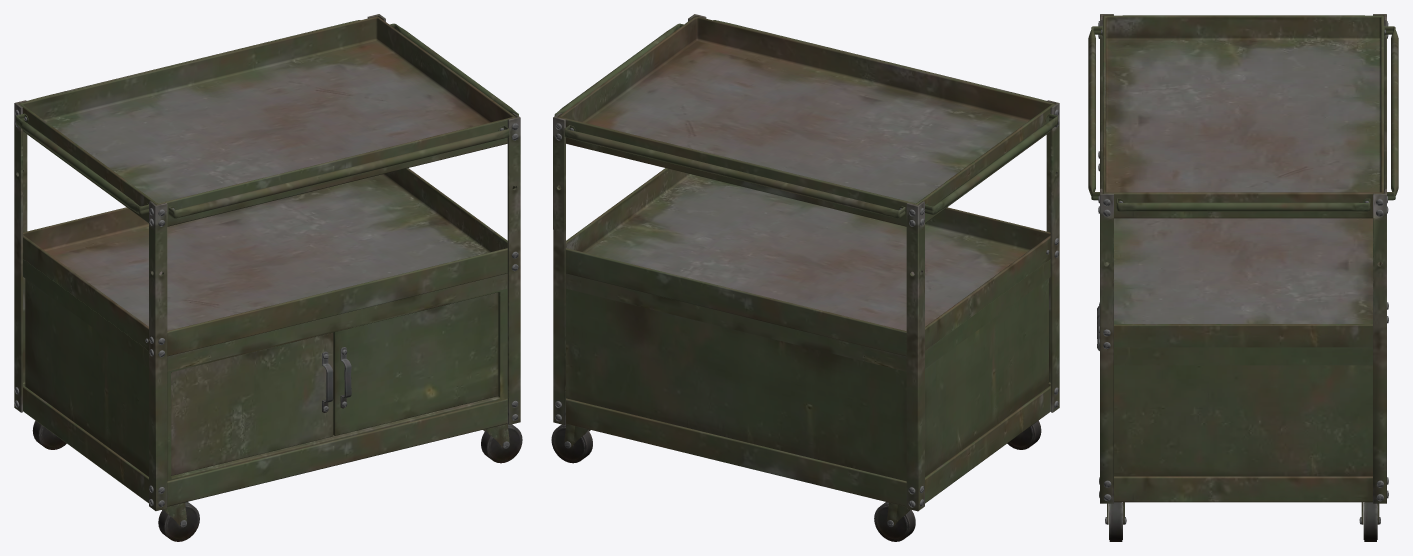
Rendered from industrial_storage_cart.glb.
3 renders of one model, left to right at view 1: azimuth 30°, elevation 25°; view 2: azimuth 150°, elevation 25°; view 3: azimuth 270°, elevation 25°, orthographic.
Parts seen in each view (by area): view 1: industrial_storage_cart; view 2: industrial_storage_cart; view 3: industrial_storage_cart.
Boxes of the visible parts, x1,y1,x2,y2 form: industrial_storage_cart: (14, 14, 522, 541); industrial_storage_cart: (551, 14, 1059, 541); industrial_storage_cart: (1088, 14, 1398, 541).
Size of the model in its own units: 1.6 by 1.38 by 1.1.
1 material, 1 textured.
